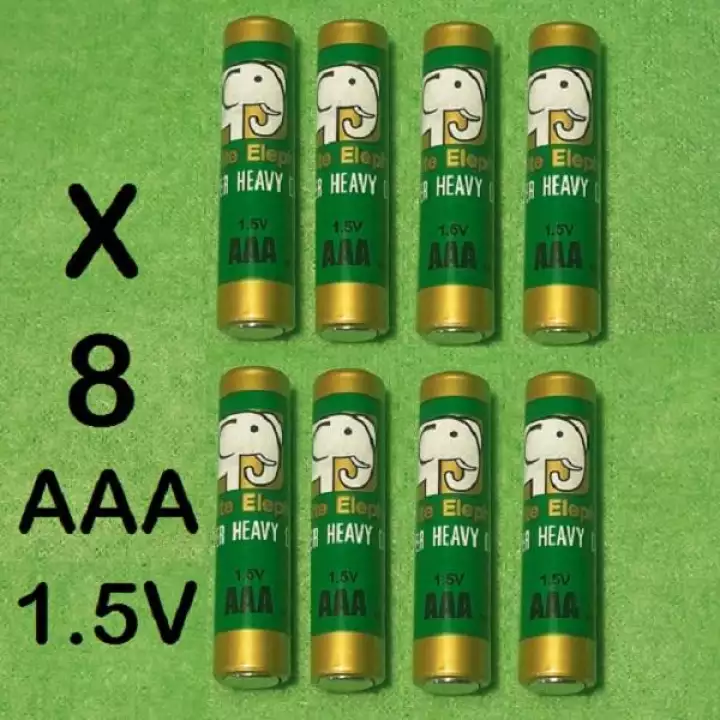Battery: (411, 17, 503, 348), (408, 366, 498, 699), (311, 16, 399, 345), (211, 363, 298, 693), (521, 17, 607, 348), (215, 13, 301, 344), (307, 365, 392, 697), (518, 367, 599, 700)
